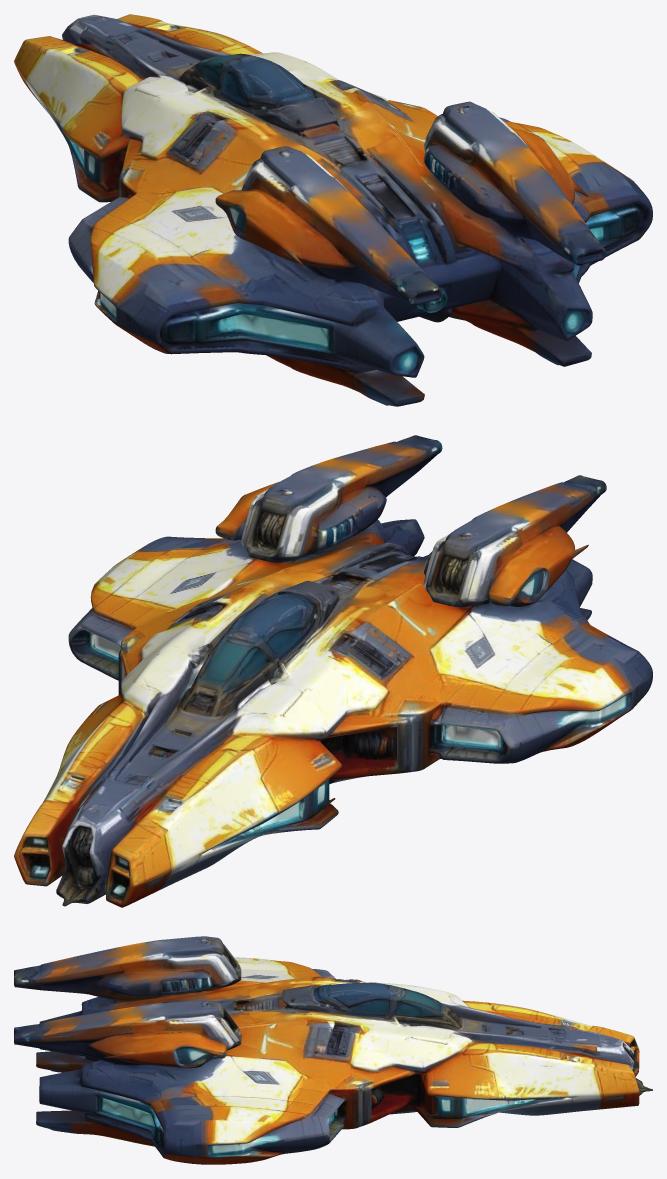
File: spirit.glb
3 renders of one model, top to bottom at view 1: azimuth 30°, elevation 25°; view 2: azimuth 150°, elevation 25°; view 3: azimuth 270°, elevation 25°, orthographic. The views are drawn at different scales.
Parts seen in each view (by area): view 1: node_0.001; view 2: node_0.001; view 3: node_0.001.
Part boxes in pixels (x1=…): node_0.001: x1=14, y1=14, x2=652, y2=406; node_0.001: x1=14, y1=435, x2=652, y2=907; node_0.001: x1=14, y1=936, x2=652, y2=1164.
Bounding box in the file's own units: 1.14 × 0.4277 × 1.7.
1 material, 1 textured.
